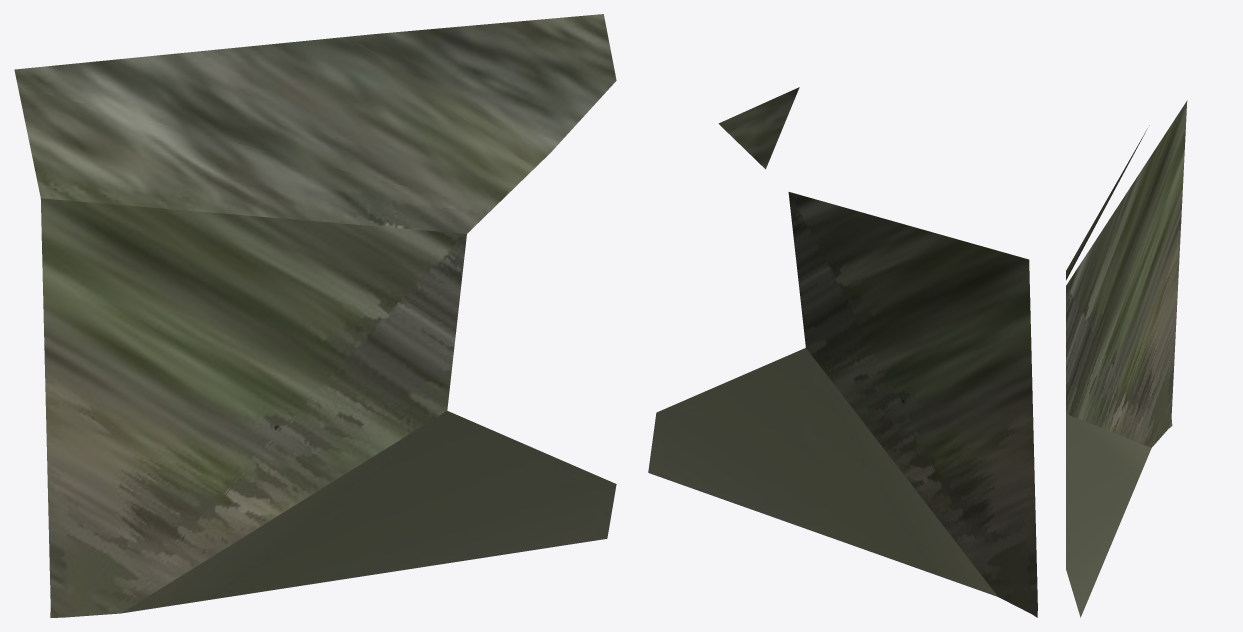
The picture shows the model from 3 angles, left to right: view 1: azimuth 30°, elevation 25°; view 2: azimuth 150°, elevation 25°; view 3: azimuth 270°, elevation 25°; orthographic projection. The views are drawn at different scales.
Size of the model in its own units: 2.95 by 2.95 by 1.06.
Materials: 2 (2 with a texture image).
